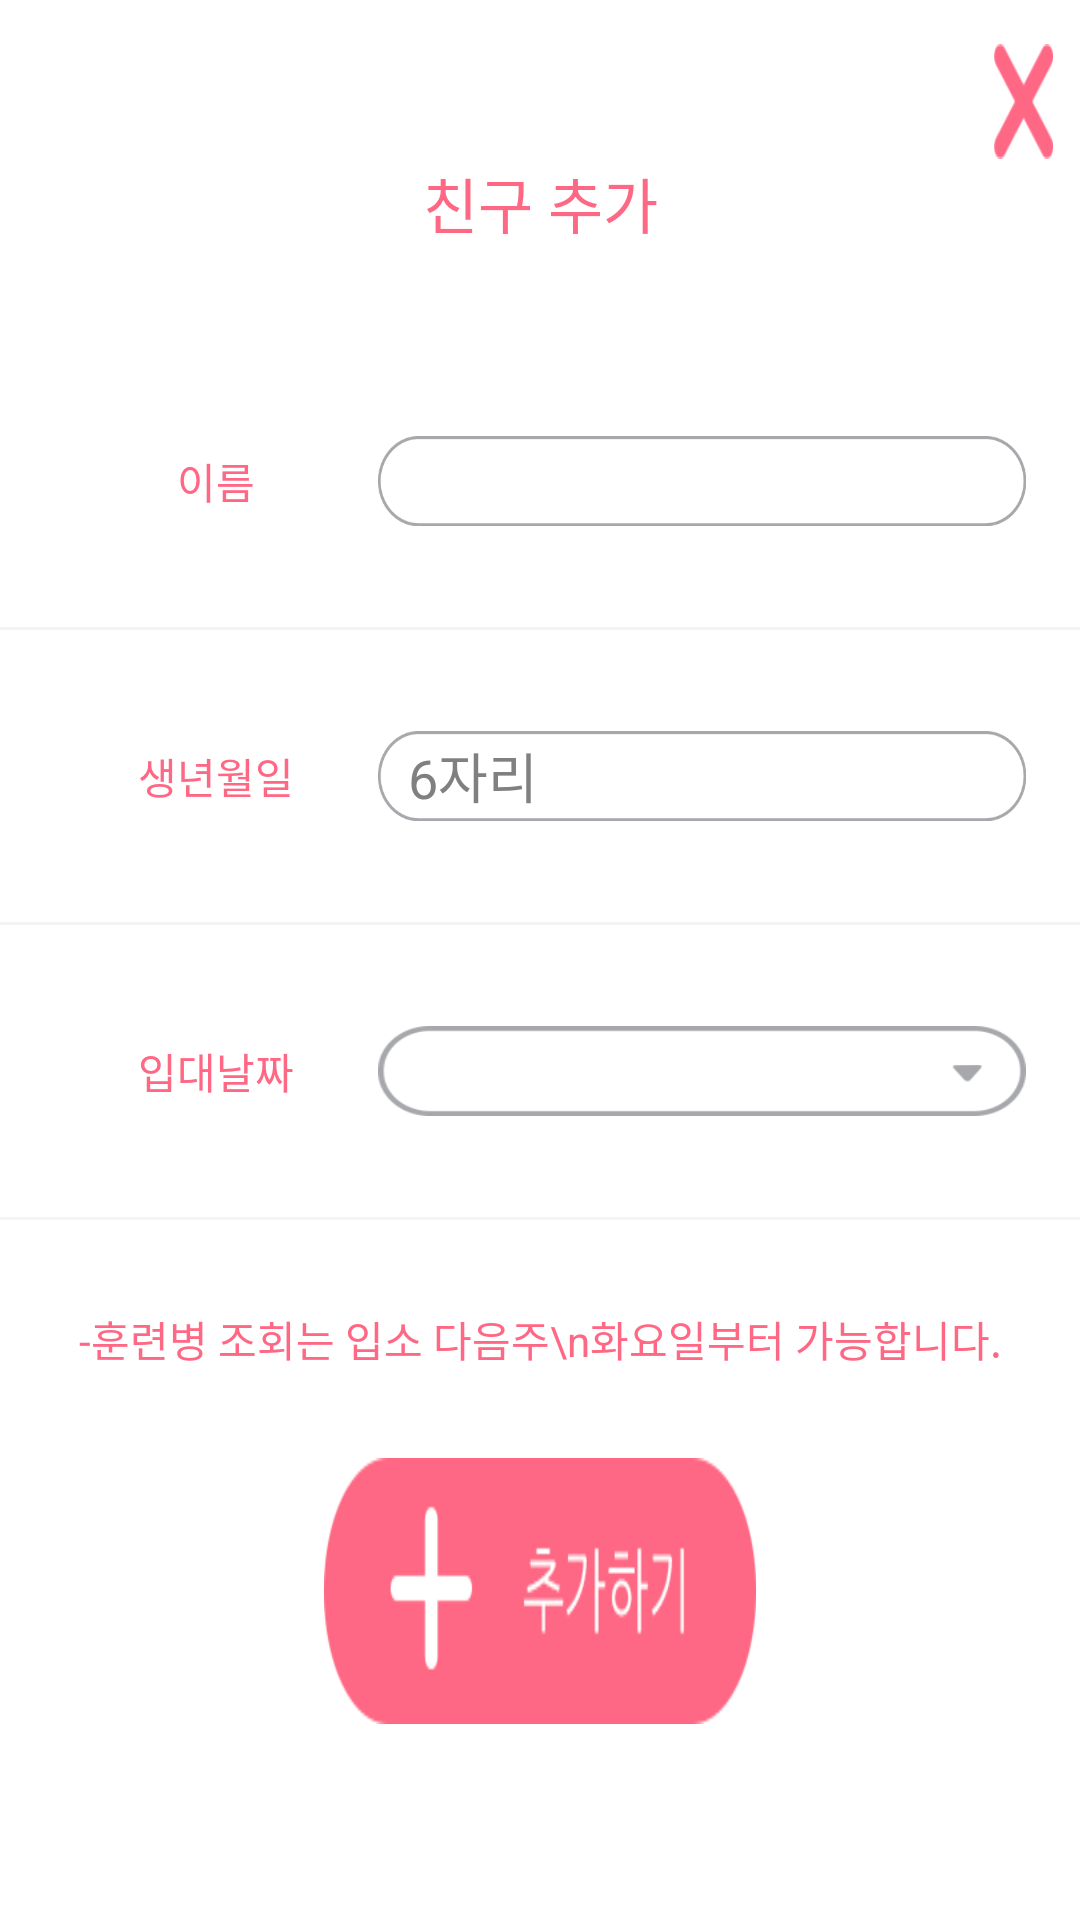

Where to tap for icons on this 1080px x 1920px app screen, as point (x, y):
cancle: point (1023, 101)
